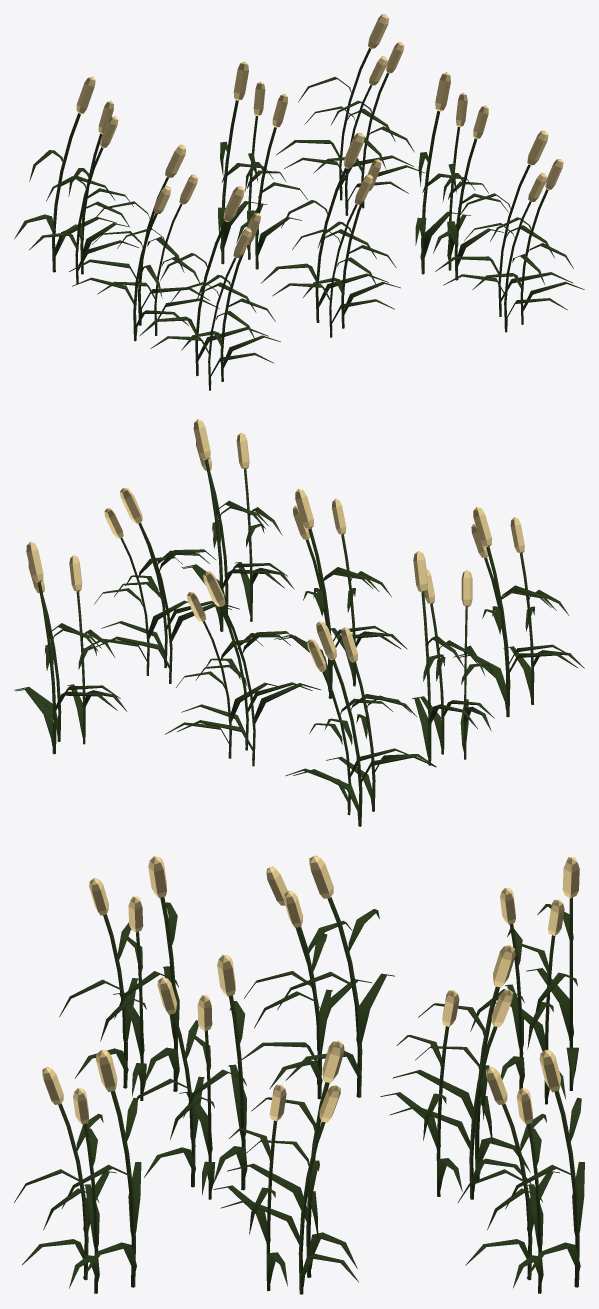
File: 강아지풀.fbx
3 renders of one model, top to bottom at view 1: azimuth 30°, elevation 25°; view 2: azimuth 150°, elevation 25°; view 3: azimuth 270°, elevation 25°, orthographic. The views are drawn at different scales.
Visible parts, largest first — view 1: Object010; view 2: Object010; view 3: Object010.
Boxes of the visible parts, left/top/right/bottom form: Object010: left=14, top=14, right=584, bottom=390; Object010: left=14, top=419, right=584, bottom=826; Object010: left=14, top=855, right=584, bottom=1294.
Bounding box in the file's own units: 192 × 82.91 × 166.
